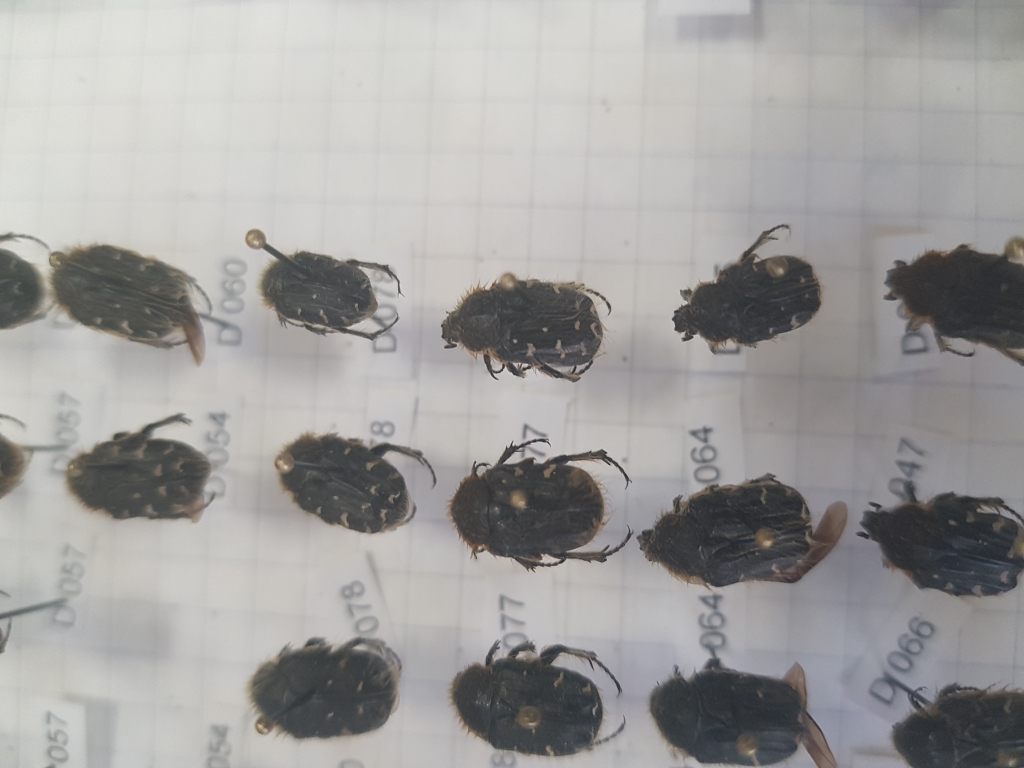Tropinota_hirta: (635, 457, 863, 599), (450, 422, 639, 569), (431, 268, 625, 366)
